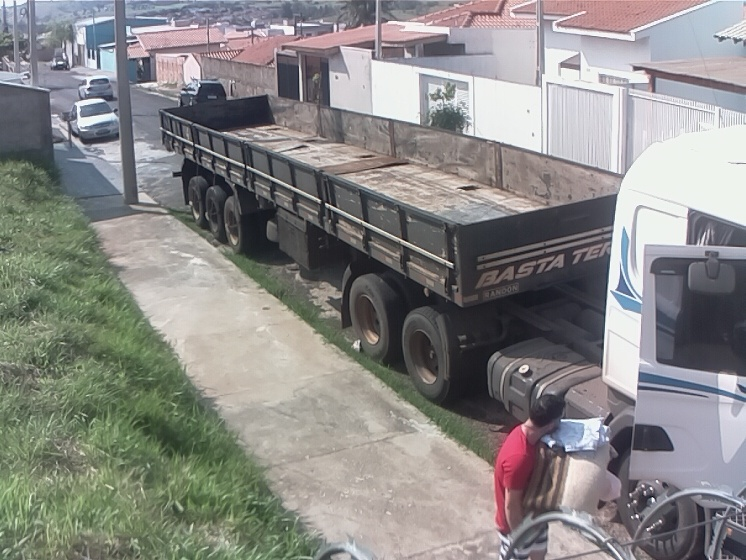person: (491, 389, 573, 560)
